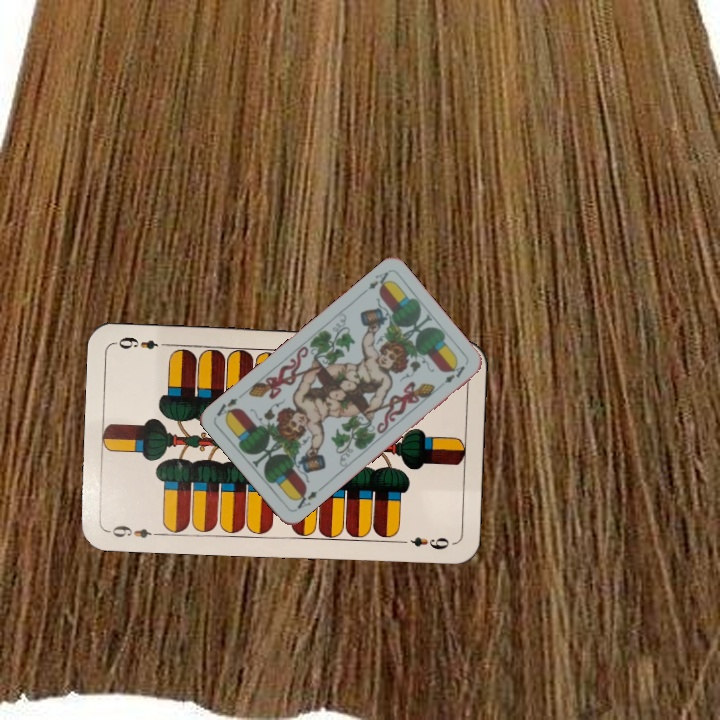E9: (105, 521, 164, 541)
EA: (357, 267, 393, 298), (290, 485, 320, 512)
